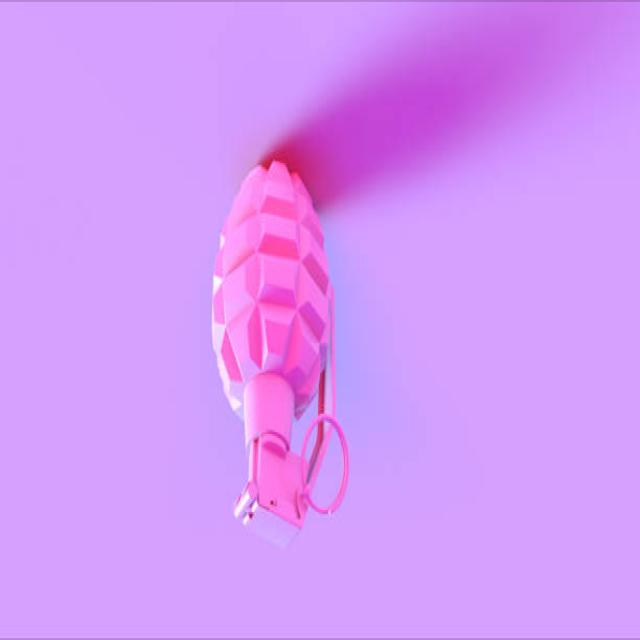grenade: (209, 154, 357, 558)
